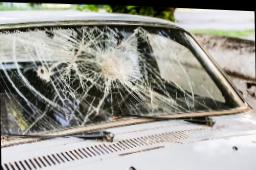Windshield: (0, 25, 246, 140)
